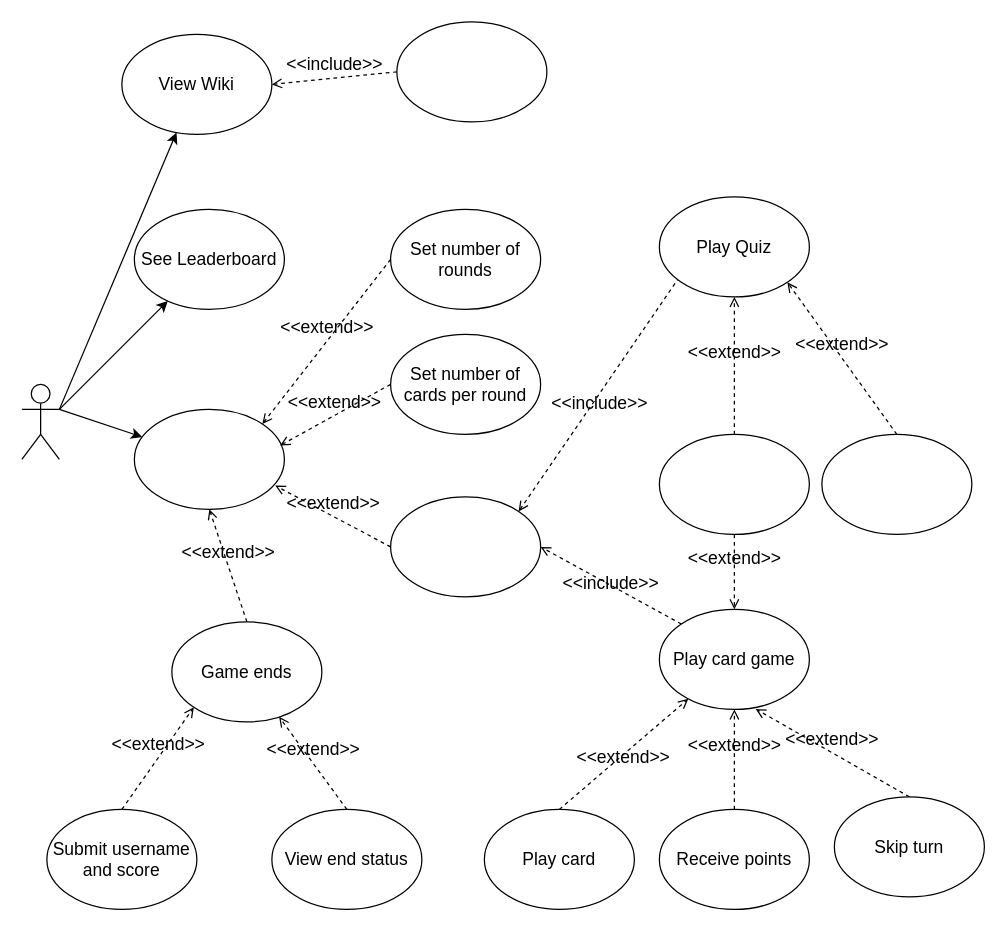
Some shapes in this 1006 by 931 pixel diagram are drawn without their labels. The centre of each missing label's shape, as x and y in pixels:
Answer question: point 896,483
Play current round: point 465,546
Play game: point 208,458
Quit game: point 733,483
User: point 40,421
View card details: point 471,71
